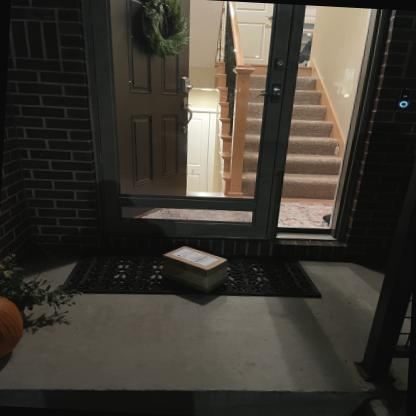box: (158, 239, 233, 296)
